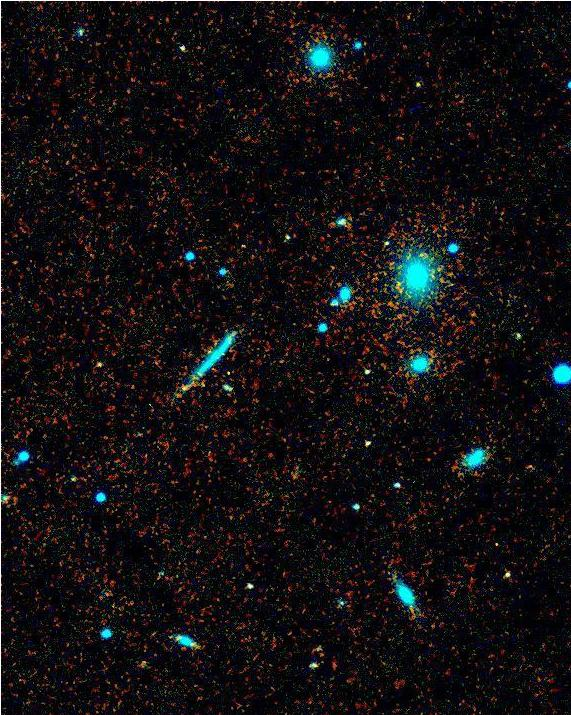star: (402, 71, 432, 101)
